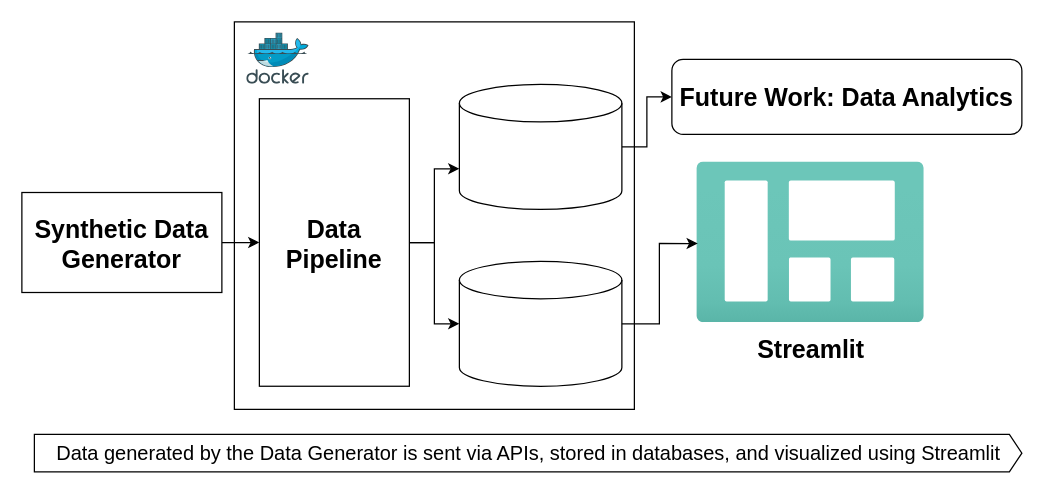
Image size: 1044x494. Some labels were removed from this diagram. Each missing label, with the centre of its shape:
MongoDB: pixel 540 323
PostgreSQL: pixel 540 146
